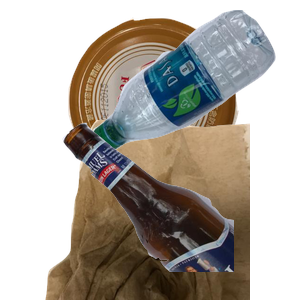glass: (60, 120, 300, 300)
metal: (66, 15, 297, 193)
plastic: (90, 10, 300, 156)
trash: (43, 120, 283, 300)
